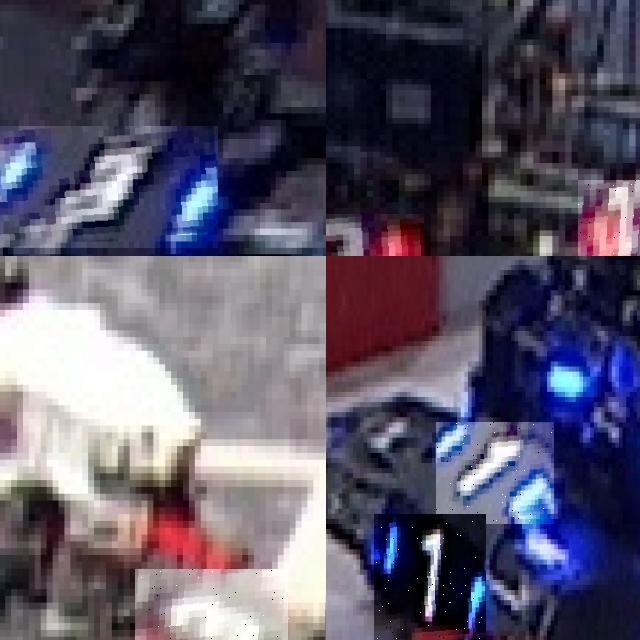B1: (374, 514, 485, 640), (436, 422, 554, 524)
B3: (0, 126, 218, 247)
R2: (577, 179, 640, 256), (326, 213, 424, 256)
R3: (135, 568, 289, 640)
